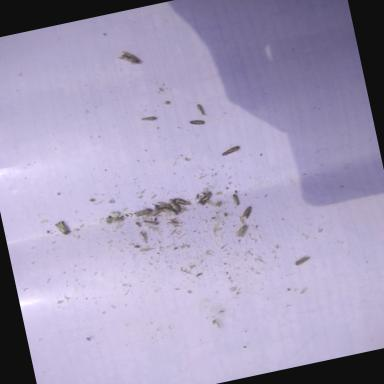pbw: (116, 48, 140, 68), (132, 206, 154, 222), (54, 219, 71, 236), (195, 190, 213, 206), (168, 196, 183, 213), (220, 144, 240, 156), (172, 195, 190, 208), (162, 204, 178, 217), (240, 205, 254, 219), (234, 225, 249, 238), (294, 254, 311, 265), (142, 218, 159, 228), (228, 192, 240, 206), (140, 114, 156, 123), (188, 118, 204, 126), (196, 104, 204, 116)
